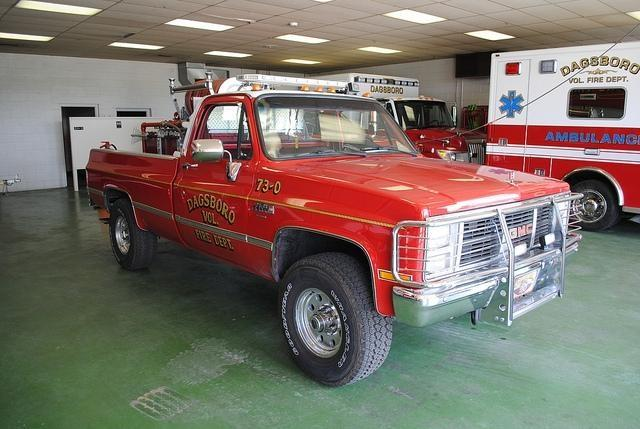truck: (86, 84, 589, 390), (486, 40, 640, 228), (342, 71, 488, 166)
